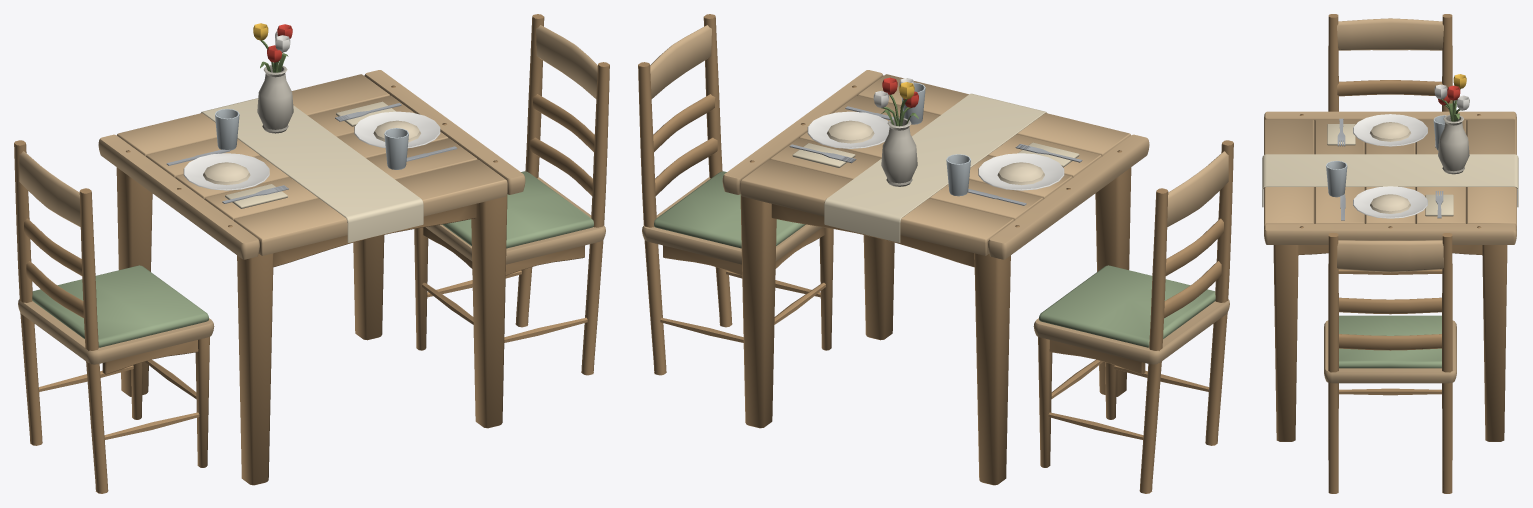
File: diningOak.glb
The picture shows the model from 3 angles, left to right: view 1: azimuth 30°, elevation 25°; view 2: azimuth 150°, elevation 25°; view 3: azimuth 270°, elevation 25°; orthographic projection. The views are drawn at different scales.
Visible parts, largest first — view 1: diningOak; view 2: diningOak; view 3: diningOak.
Boxes of the visible parts, box(x1,y1,x2,y2) form: diningOak: box(14, 14, 609, 493); diningOak: box(638, 14, 1233, 493); diningOak: box(1262, 14, 1518, 493).
Bounding box in the file's own units: 1.69 × 1.07 × 0.81.
